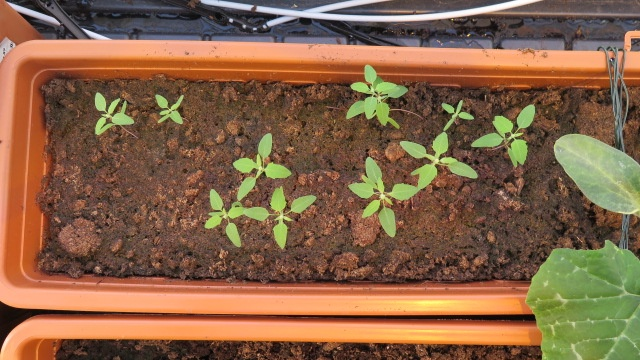weed: (85, 88, 137, 138), (435, 97, 479, 132), (149, 91, 189, 127)
